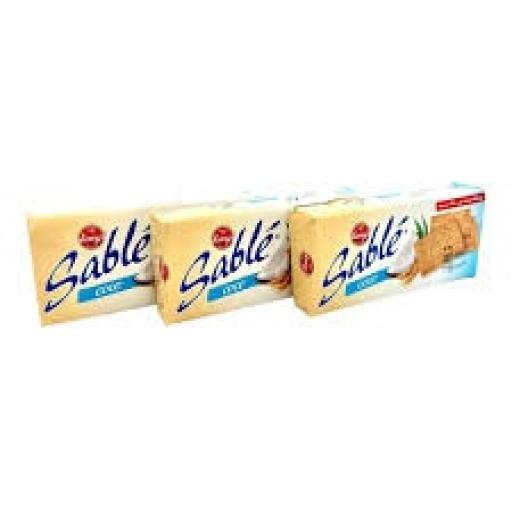sable: (273, 179, 512, 390)
